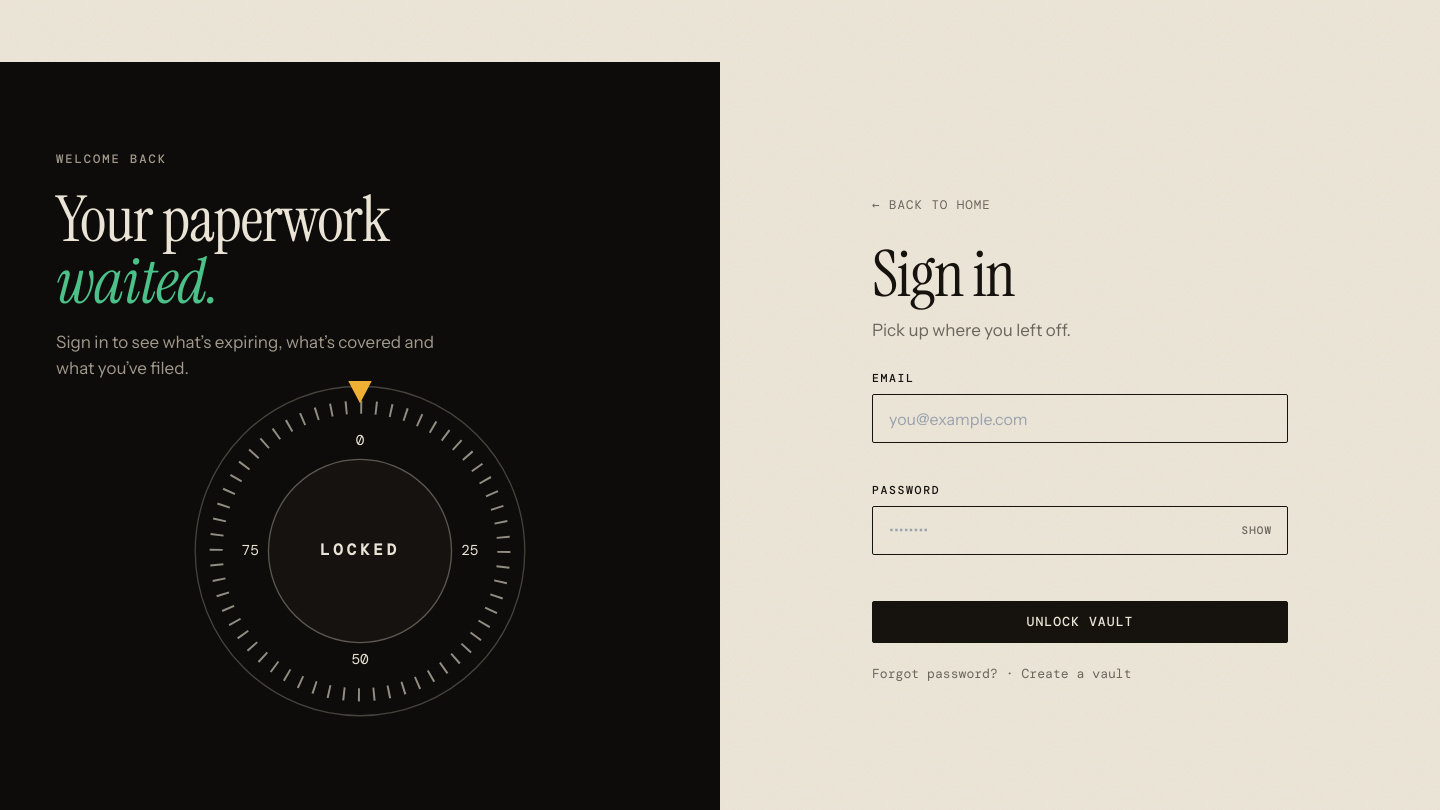
Test: WarrantyVault Authentication & Form Validations › rejects invalid login credentials with an error message
// Enter short / invalid password
In the field with placeholder "you@example.com": (1080, 419) left=872, top=394, right=1288, bottom=443, type "user@example.com"
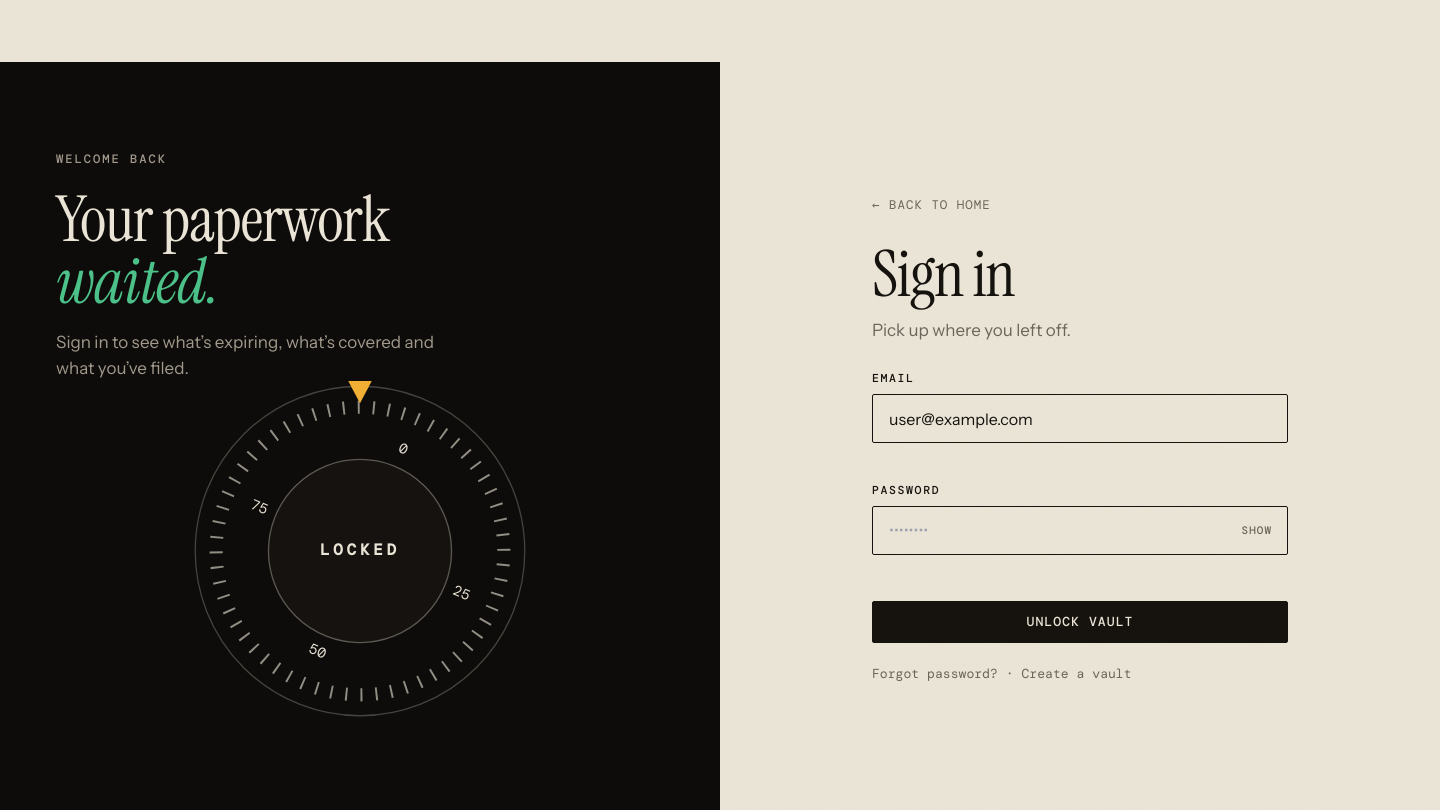
In the password field with placeholder "••••••••": (1080, 530) left=872, top=506, right=1288, bottom=555, type "123"
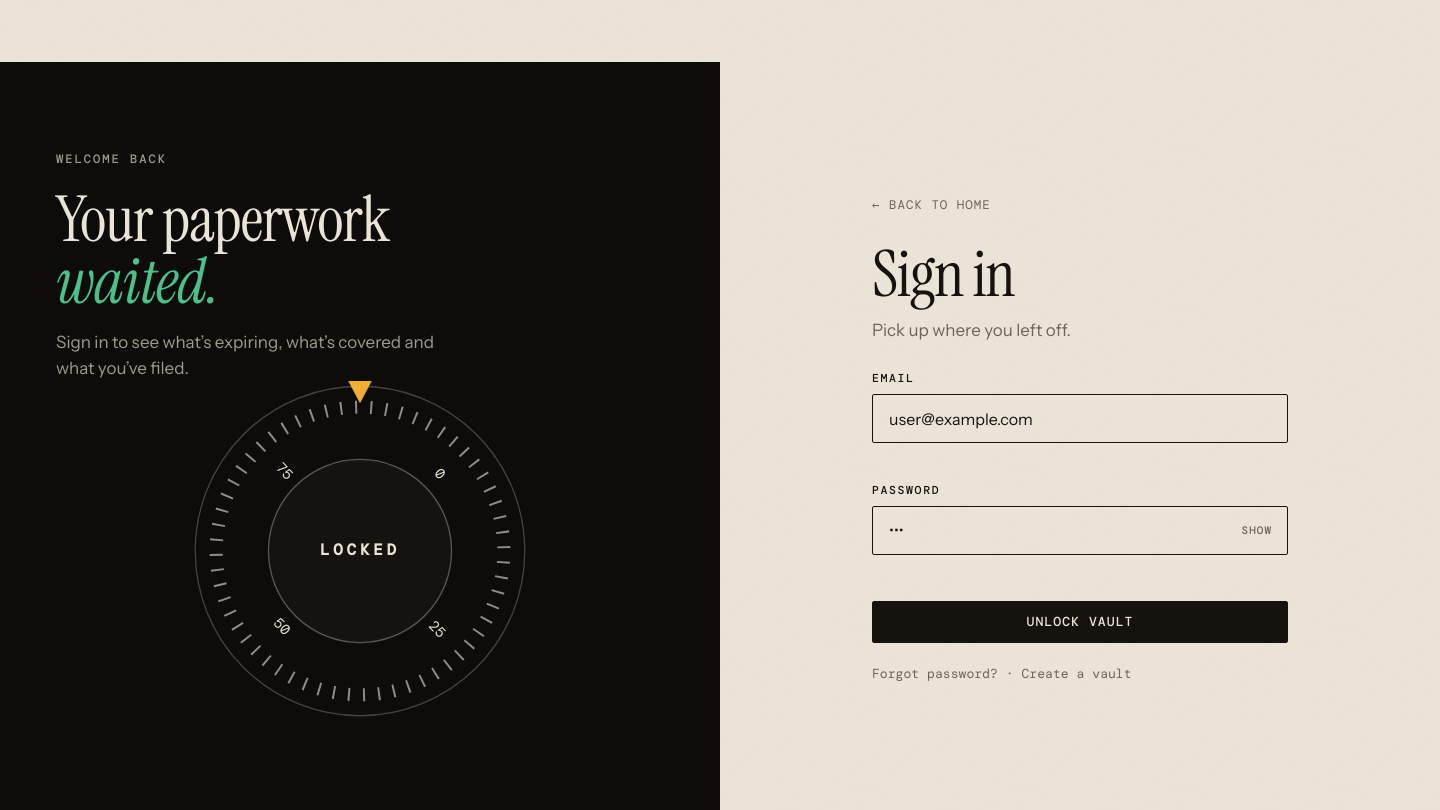
Click the button "Unlock vault": (1080, 622) left=872, top=600, right=1288, bottom=643
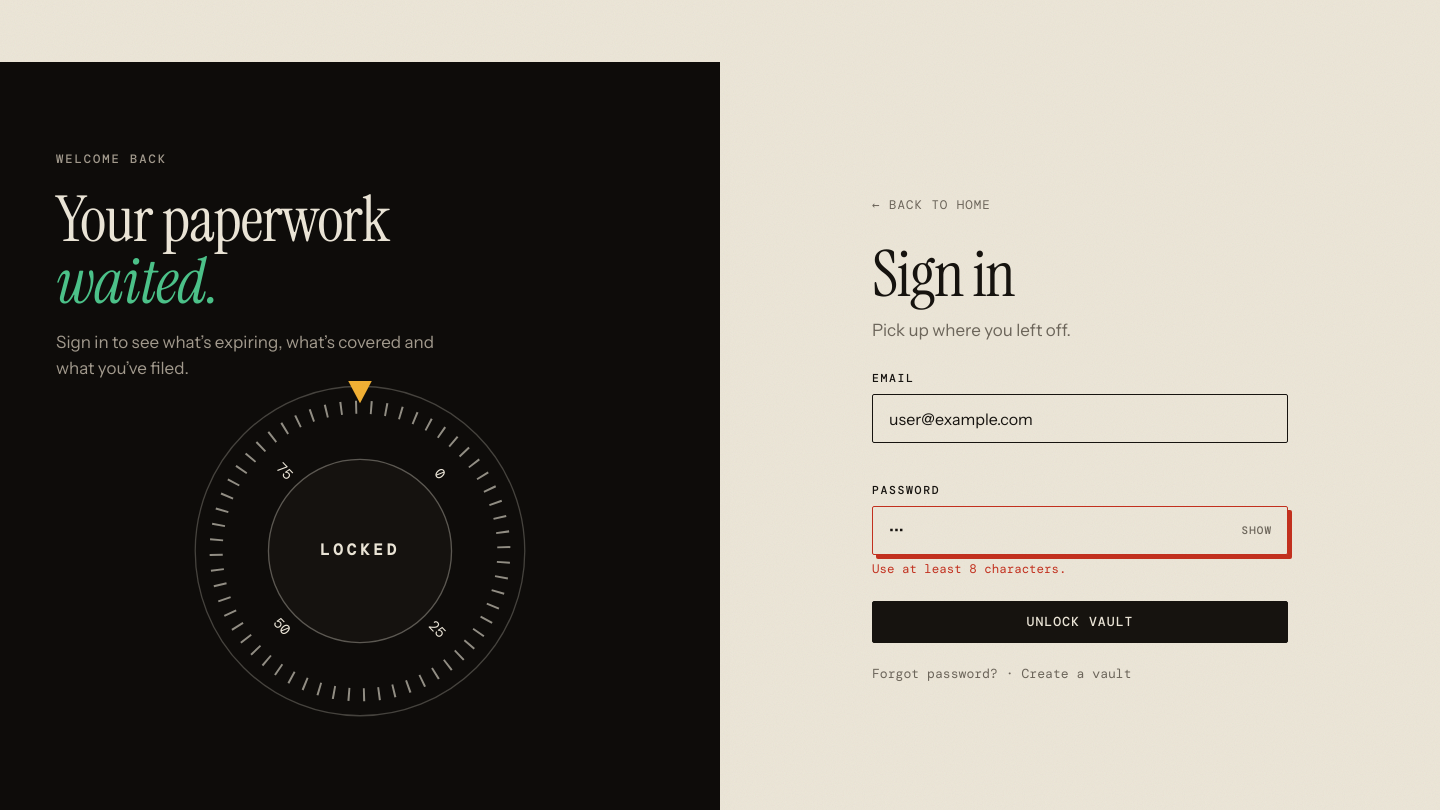
Now the text "Use at least 8 characters." is shown, box left=872, top=561, right=1066, bottom=577
